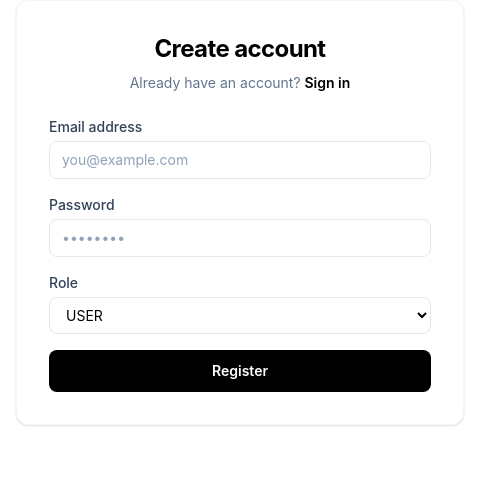
Scenario: RegisterPage › shows validation errors when fields are empty and submitted
Click the button "Register": (240, 371) [49,350,431,392]
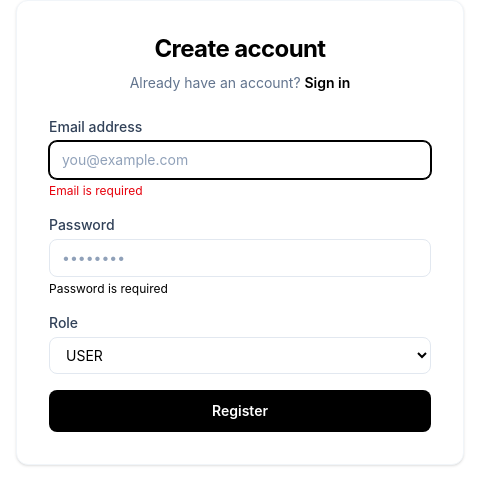
Expected: the text "Email is required" is shown, [49,183,143,198]
Expected: the text "Password is required" is shown, [49,281,168,296]
